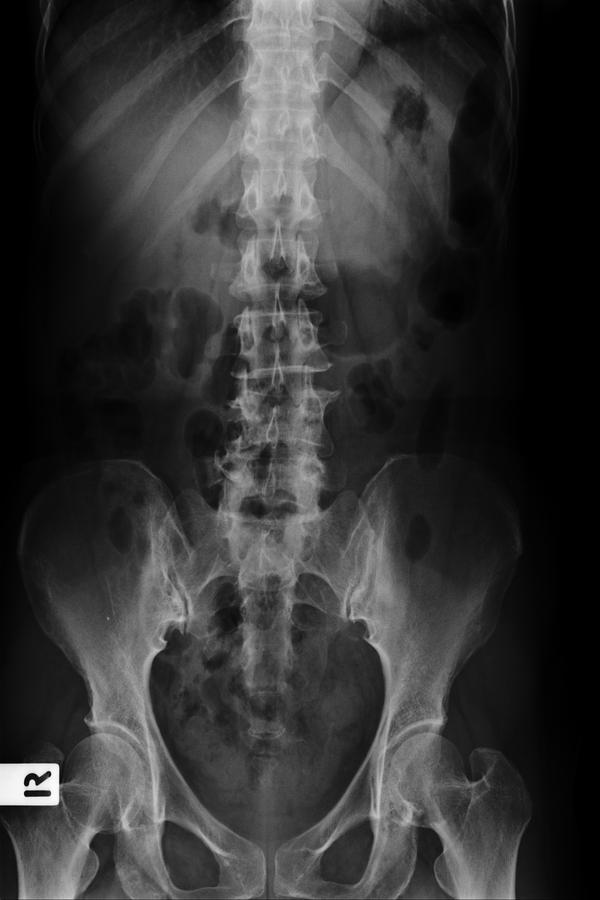lumbar scoliosis: (220, 8, 336, 544)
